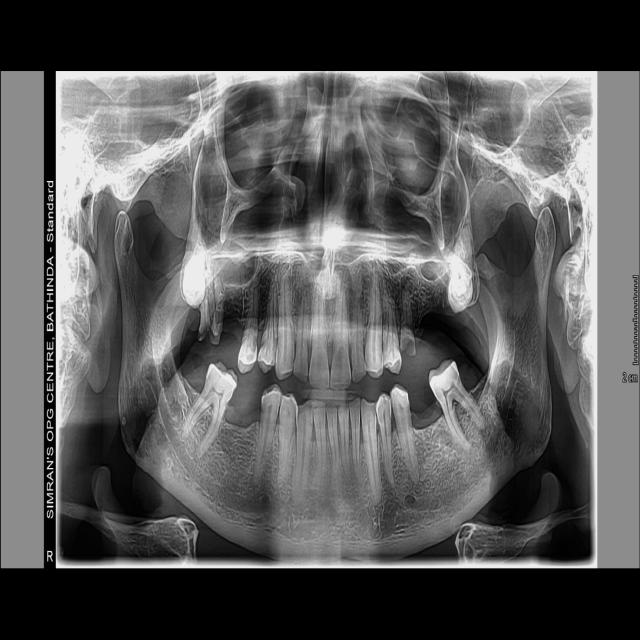Missing teeth: (415, 308, 455, 356), (231, 378, 261, 427), (409, 383, 436, 428), (221, 309, 243, 357)
Root Piece: (198, 277, 225, 346), (400, 289, 416, 356)
